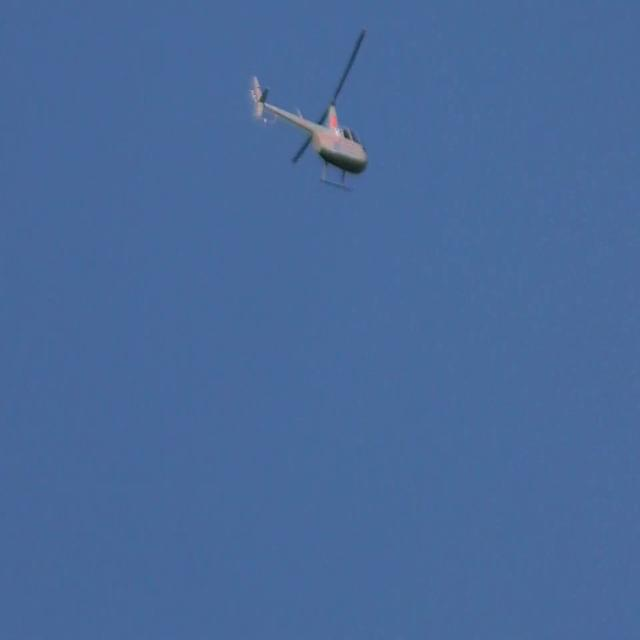CIV_HELO: (250, 74, 370, 193)
